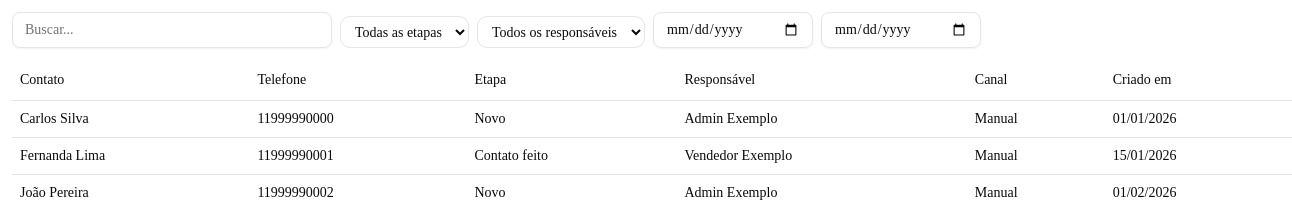
Test case: LeadTable › intervalo de data (de/até) restringe as linhas exibidas
Type "2026-01-10" into the date field named "Criado a partir de" at (733, 30), box 653,12 -> 813,48
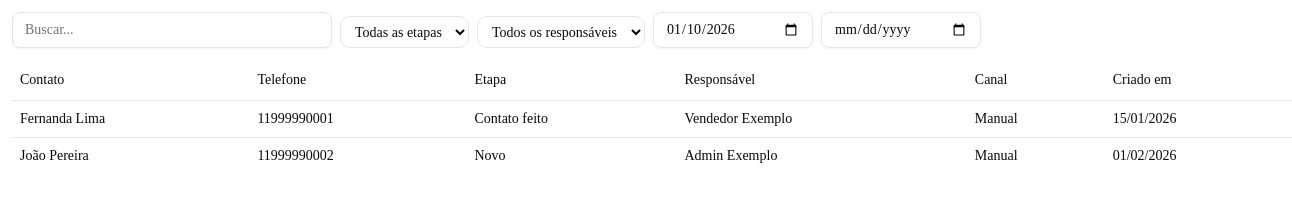
Expected: the link "Carlos Silva" is gone
Expected: the link "Fernanda Lima" is shown, 20,108 -> 105,128
Expected: the link "João Pereira" is shown, 20,146 -> 89,166
Type "2026-01-20" into the date field named "Criado até" at (901, 30), box 821,12 -> 981,48
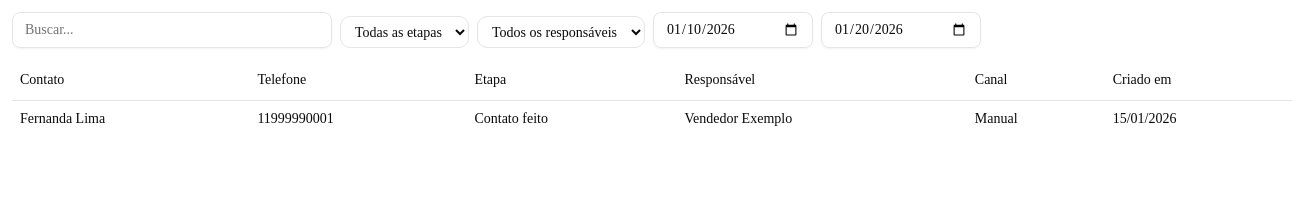
Expected: the link "Fernanda Lima" is shown, 20,108 -> 105,128
Expected: the link "João Pereira" is gone
